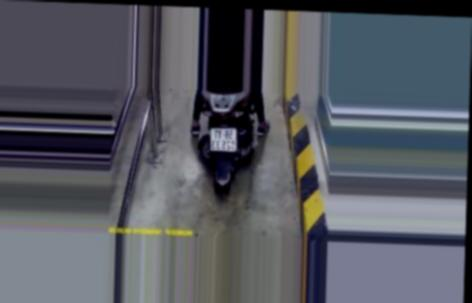License_Plate: (208, 124, 242, 154)
